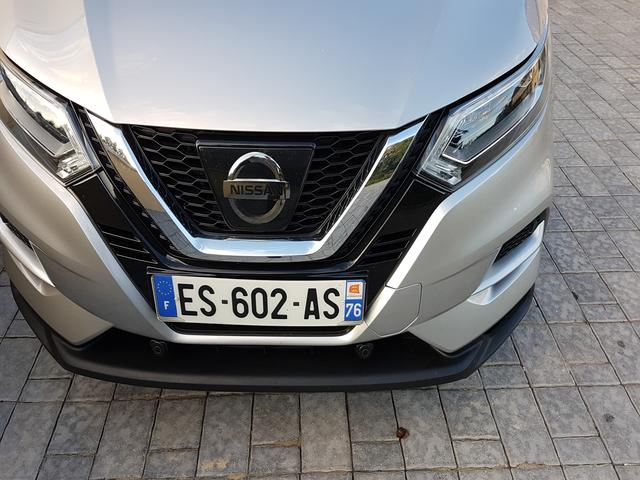Quashquai: (139, 241, 389, 347)
